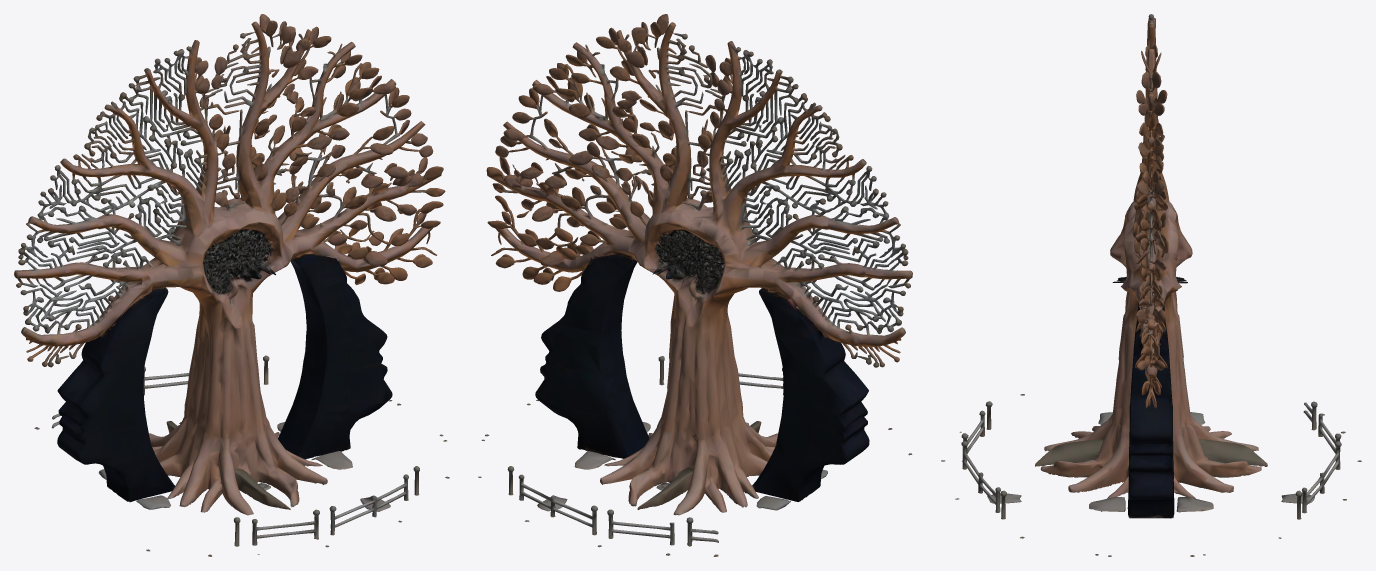
The model's file is tree-lite.glb.
3 views of the same model, side by side, from view 1: azimuth 30°, elevation 25°; view 2: azimuth 150°, elevation 25°; view 3: azimuth 270°, elevation 25° (orthographic). The views are drawn at different scales.
Bounding box in the file's own units: 2.35 × 2.34 × 2.06.
Materials: 1 (1 with a texture image).
